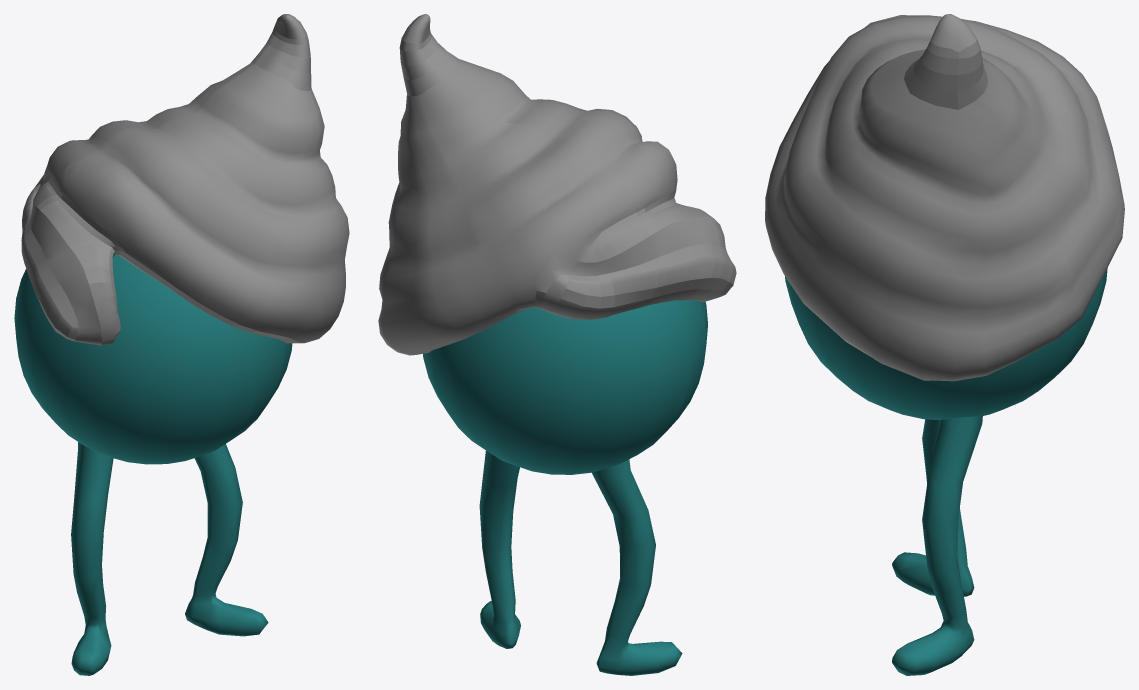
Rendered from SKM_Candy 1.fbx.
3 views of the same model, side by side, from view 1: azimuth 30°, elevation 25°; view 2: azimuth 150°, elevation 25°; view 3: azimuth 270°, elevation 25° (orthographic). The views are drawn at different scales.
Visible parts, largest first — view 1: SKM_Candy; view 2: SKM_Candy; view 3: SKM_Candy.
Part boxes in pixels (bbox=[...]): SKM_Candy: bbox=[14, 14, 349, 675]; SKM_Candy: bbox=[378, 14, 736, 675]; SKM_Candy: bbox=[765, 14, 1124, 675].
Bounding box in the file's own units: 1.12 × 2.11 × 0.9958.
